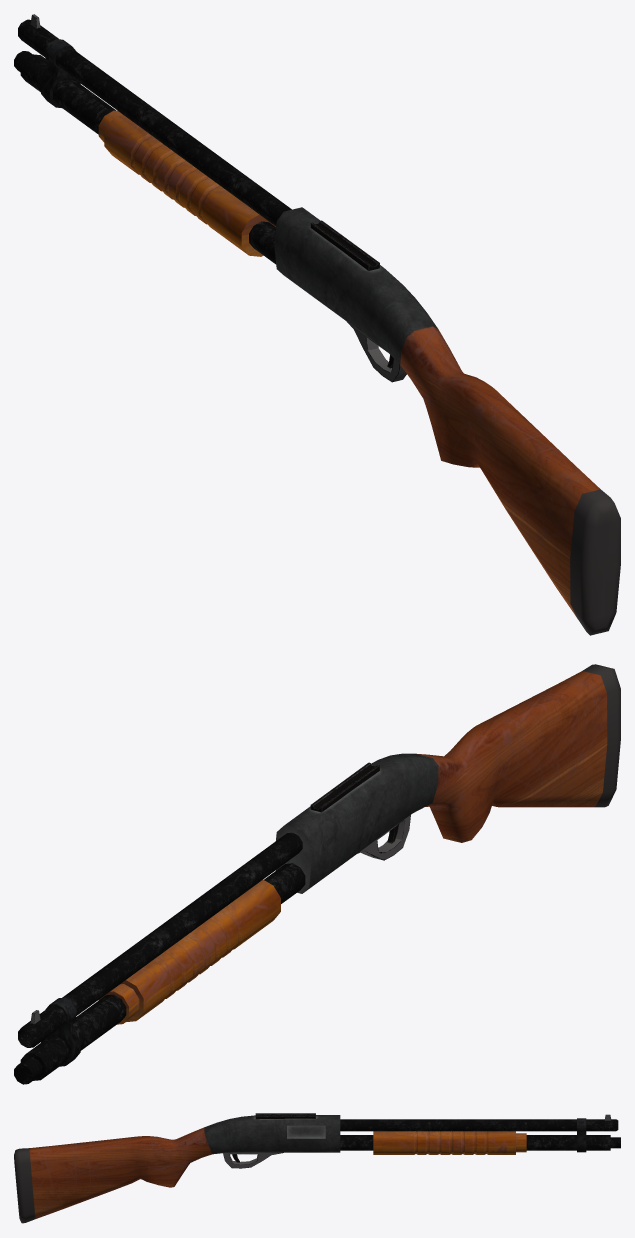
The model's file is remington_.fbx.
3 views of the same model, one above another, from view 1: azimuth 30°, elevation 25°; view 2: azimuth 150°, elevation 25°; view 3: azimuth 270°, elevation 25° (orthographic). The views are drawn at different scales.
Parts seen in each view (by area): view 1: remington_001, remington_tile; view 2: remington_001, remington_tile; view 3: remington_001, remington_tile.
Part boxes in pixels (x1=…): remington_001: x1=14, y1=14, x2=620, y2=635; remington_tile: x1=98, y1=110, x2=275, y2=256; remington_001: x1=14, y1=664, x2=620, y2=1084; remington_tile: x1=98, y1=879, x2=280, y2=1024; remington_001: x1=14, y1=1113, x2=620, y2=1223; remington_tile: x1=373, y1=1131, x2=526, y2=1154.
Size of the model in its own units: 3.83 by 18.94 by 98.07.
1 material, 1 textured.
